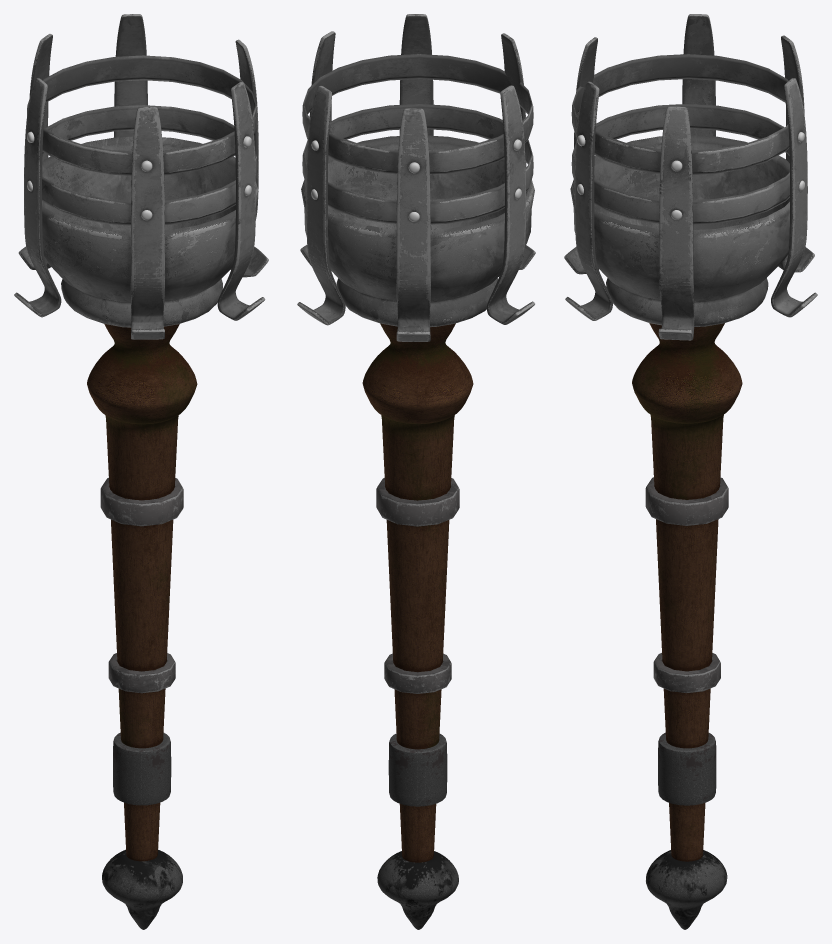
File: Torch.fbx
3 renders of one model, left to right at view 1: azimuth 30°, elevation 25°; view 2: azimuth 150°, elevation 25°; view 3: azimuth 270°, elevation 25°, orthographic.
Visible parts, largest first — view 1: Circle, Plane, Circle.004, Circle.005, Circle.001, Circle.003, Circle.002; view 2: Circle, Plane, Circle.004, Circle.005, Circle.001, Circle.003, Circle.002; view 3: Circle, Plane, Circle.004, Circle.005, Circle.001, Circle.003, Circle.002.
Boxes of the visible parts, box(x1,y1,x2,y2) form: Circle: box(87, 324, 197, 861); Plane: box(14, 14, 268, 339); Circle.004: box(42, 136, 258, 327); Circle.005: box(27, 55, 257, 225); Circle.001: box(100, 477, 183, 693); Circle.003: box(102, 849, 182, 929); Circle.002: box(113, 732, 171, 805); Circle: box(362, 323, 473, 862); Plane: box(297, 14, 535, 341); Circle.004: box(301, 135, 534, 327); Circle.005: box(302, 54, 533, 224); Circle.001: box(376, 478, 459, 693); Circle.003: box(377, 851, 458, 929); Circle.002: box(388, 733, 447, 806); Circle: box(632, 323, 742, 861); Plane: box(564, 14, 817, 340); Circle.004: box(570, 135, 789, 326); Circle.005: box(571, 54, 789, 224); Circle.001: box(645, 477, 728, 693); Circle.003: box(646, 850, 727, 929); Circle.002: box(658, 732, 716, 805).
Size of the model in its own units: 45.27 by 162 by 42.88.
